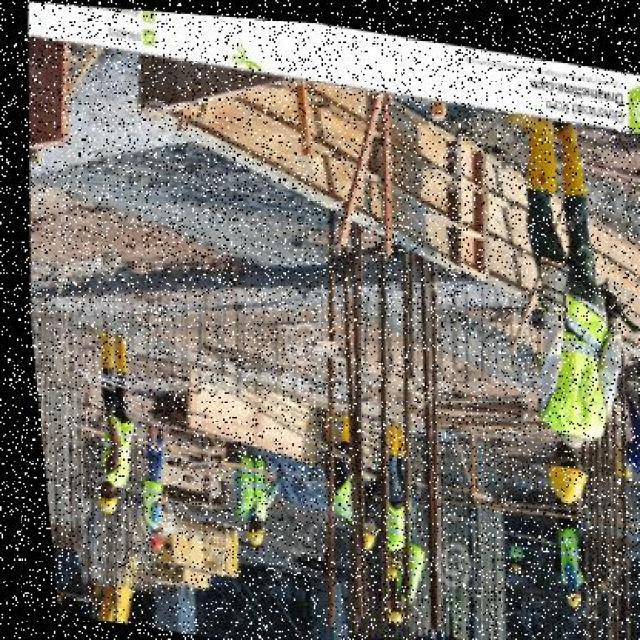helmet: (530, 446, 583, 500), (83, 486, 113, 517), (231, 518, 256, 546), (549, 580, 571, 606), (372, 597, 391, 623)
vest: (519, 278, 614, 442), (85, 406, 127, 492), (215, 446, 263, 520), (536, 512, 578, 579), (123, 469, 153, 531)
